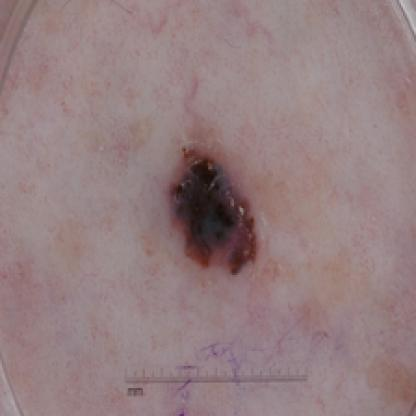malignant: (167, 139, 258, 273)
